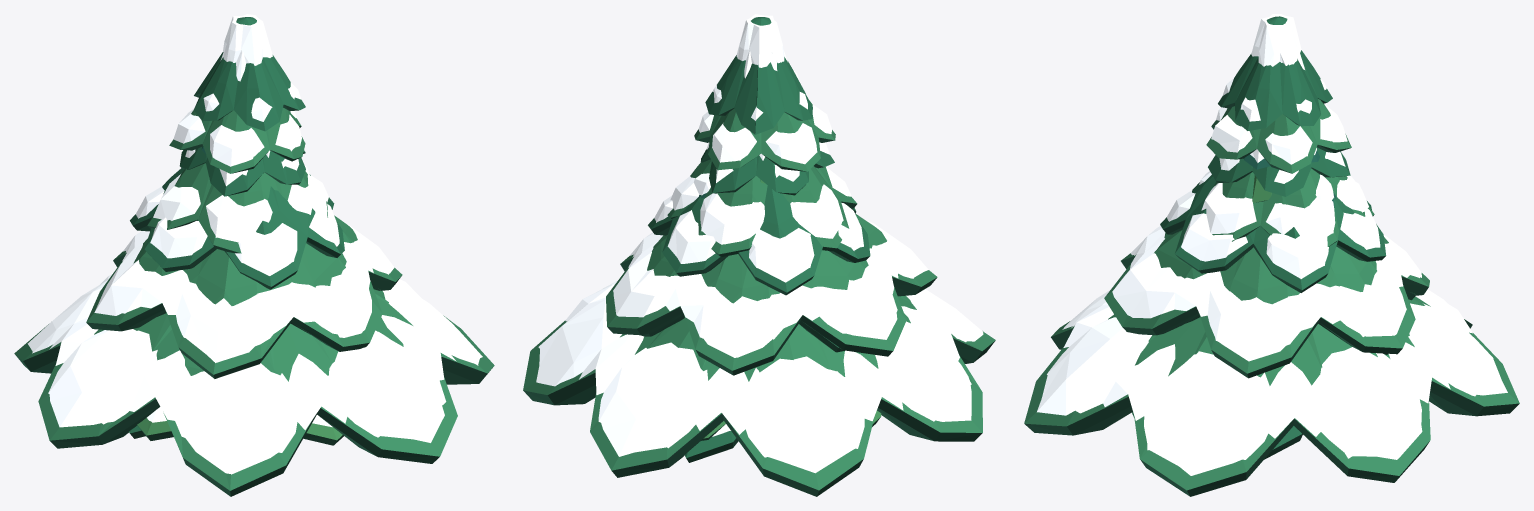
Rendered from Pinos_LOD1.glb.
3 renders of one model, left to right at view 1: azimuth 30°, elevation 25°; view 2: azimuth 150°, elevation 25°; view 3: azimuth 270°, elevation 25°, orthographic.
Parts seen in each view (by area): view 1: PinoNevado_LOD1, PinoAbeto_LOD1, PinoJoven_LOD1; view 2: PinoNevado_LOD1, PinoAbeto_LOD1; view 3: PinoNevado_LOD1, PinoAbeto_LOD1, PinoPicea_LOD1.
Part boxes in pixels (x1=…): PinoNevado_LOD1: x1=14, y1=45, x2=494, y2=496; PinoAbeto_LOD1: x1=129, y1=14, x2=380, y2=438; PinoJoven_LOD1: x1=137, y1=407, x2=343, y2=445; PinoNevado_LOD1: x1=523, y1=50, x2=995, y2=496; PinoAbeto_LOD1: x1=626, y1=14, x2=870, y2=462; PinoNevado_LOD1: x1=1024, y1=45, x2=1519, y2=496; PinoAbeto_LOD1: x1=1132, y1=14, x2=1415, y2=459; PinoPicea_LOD1: x1=1243, y1=148, x2=1336, y2=207.
Size of the model in its own units: 1.07 by 0.9377 by 1.1.
